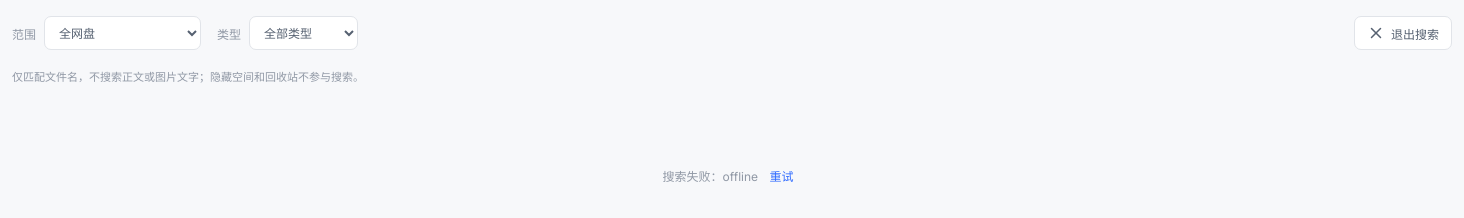
filename search panel › keeps errors inline and provides an explicit retry and useful empty state
Expected: the message "搜索失败：offline 重试" is shown, [662,155,801,199]
Click the button "重试" at (781, 177), box [761,155,801,199]
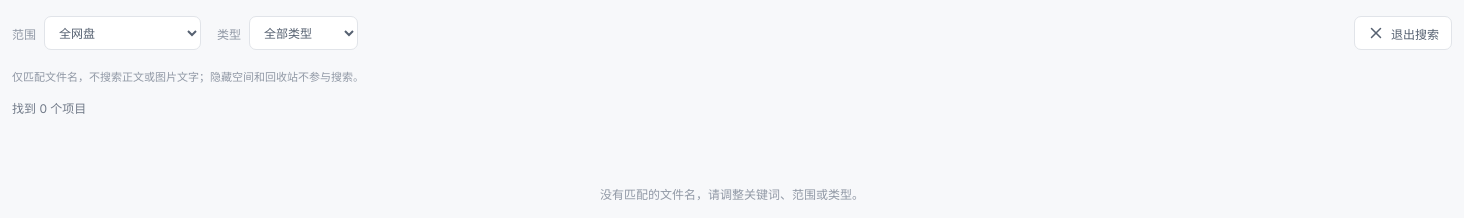
Expected: the text "没有匹配的文件名" is shown, [600,187,864,202]
